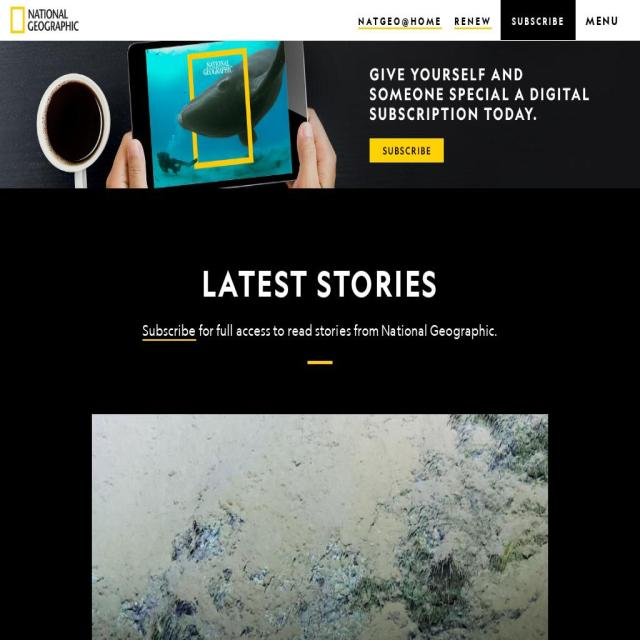button: (0, 41, 640, 188), (11, 0, 78, 40), (500, 7, 576, 35), (358, 14, 442, 29), (142, 320, 196, 341), (586, 12, 630, 29), (454, 14, 492, 29), (334, 0, 346, 40), (314, 12, 324, 26)
heading: (92, 263, 548, 304)
image: (85, 407, 542, 640), (92, 413, 548, 640), (0, 41, 640, 188), (500, 0, 576, 40), (10, 7, 80, 33), (334, 13, 346, 27), (314, 12, 324, 26), (308, 360, 332, 364), (623, 16, 629, 24)
text: (195, 320, 498, 339), (508, 9, 568, 33), (586, 12, 618, 29)
